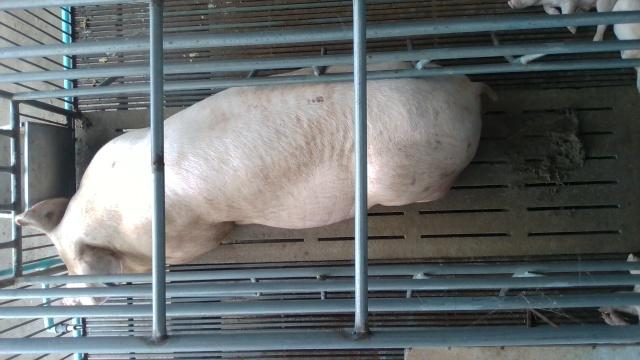sow-sit: (15, 60, 497, 306)
